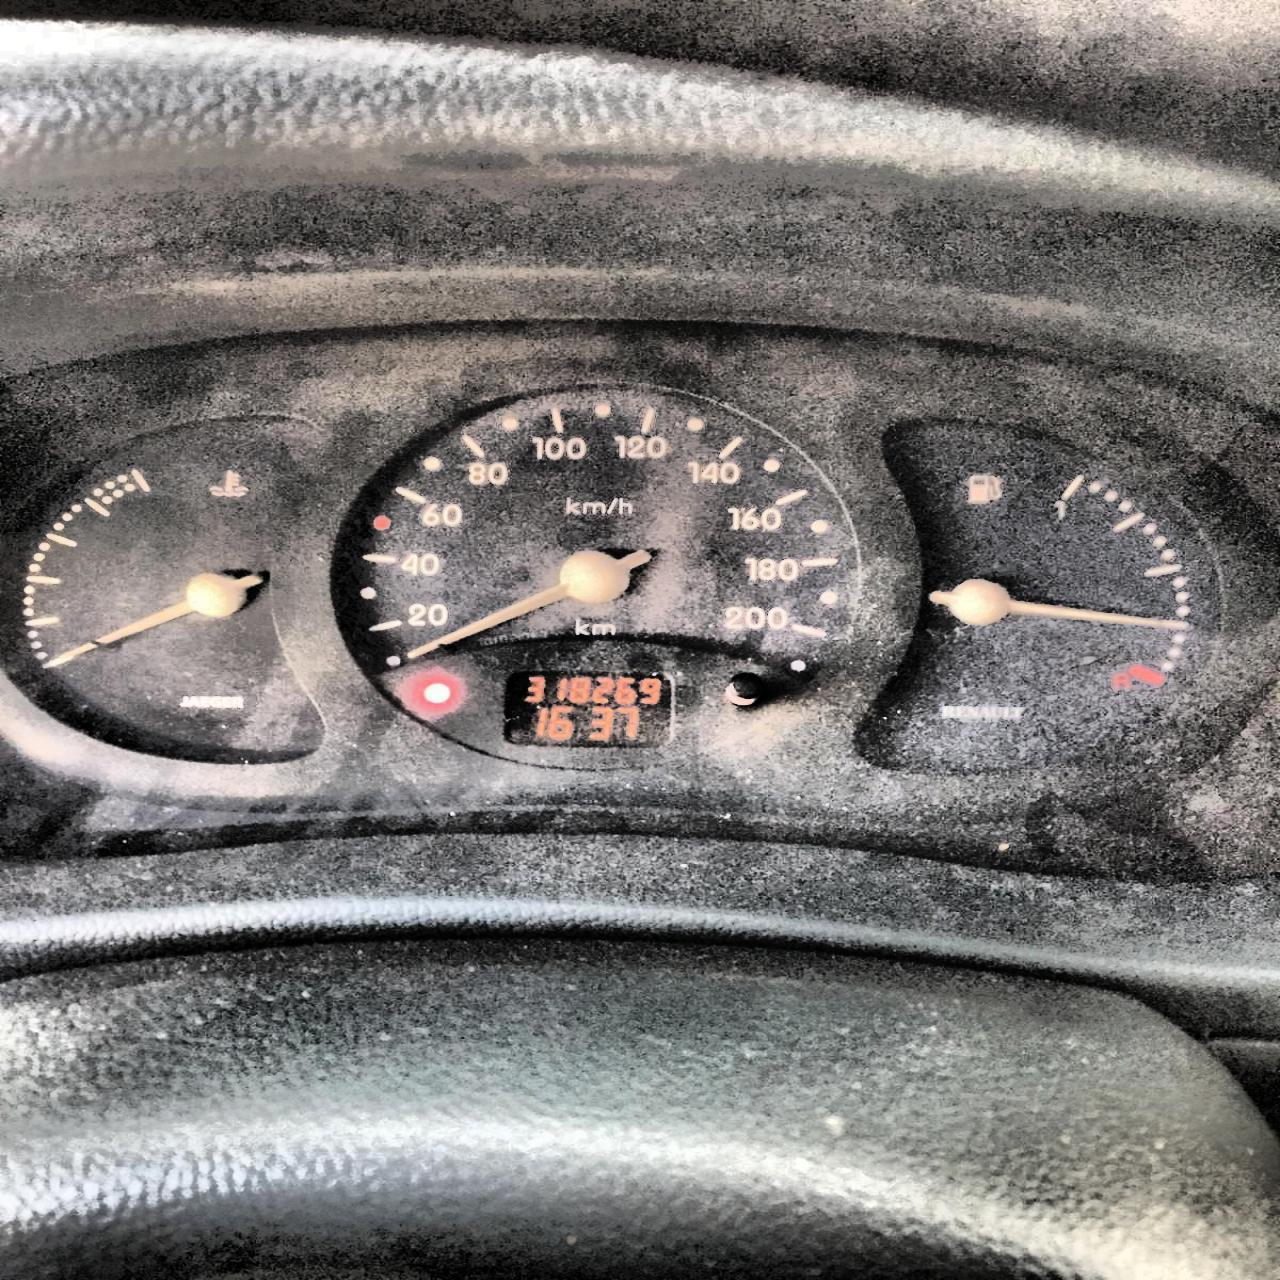1: (536, 707, 546, 735), (557, 678, 565, 700)
2: (592, 678, 612, 702)
3: (590, 708, 612, 738), (524, 676, 544, 702)
6: (547, 707, 572, 737), (614, 678, 635, 702)
7: (615, 707, 636, 737)
8: (568, 676, 588, 701)
9: (640, 679, 659, 703)
odometer: (499, 667, 675, 750)
